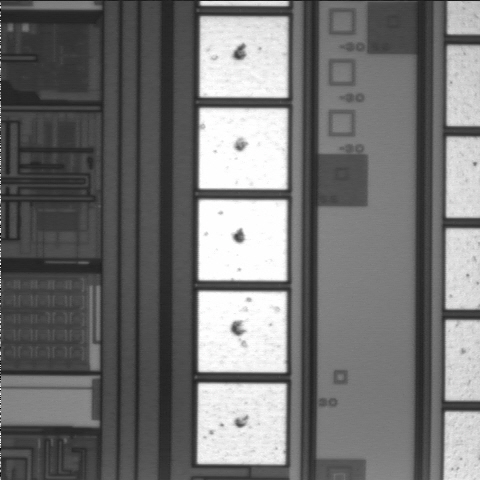pad: (199, 108, 288, 190), (198, 199, 287, 281), (197, 383, 286, 465), (200, 16, 288, 98), (198, 291, 287, 372)
